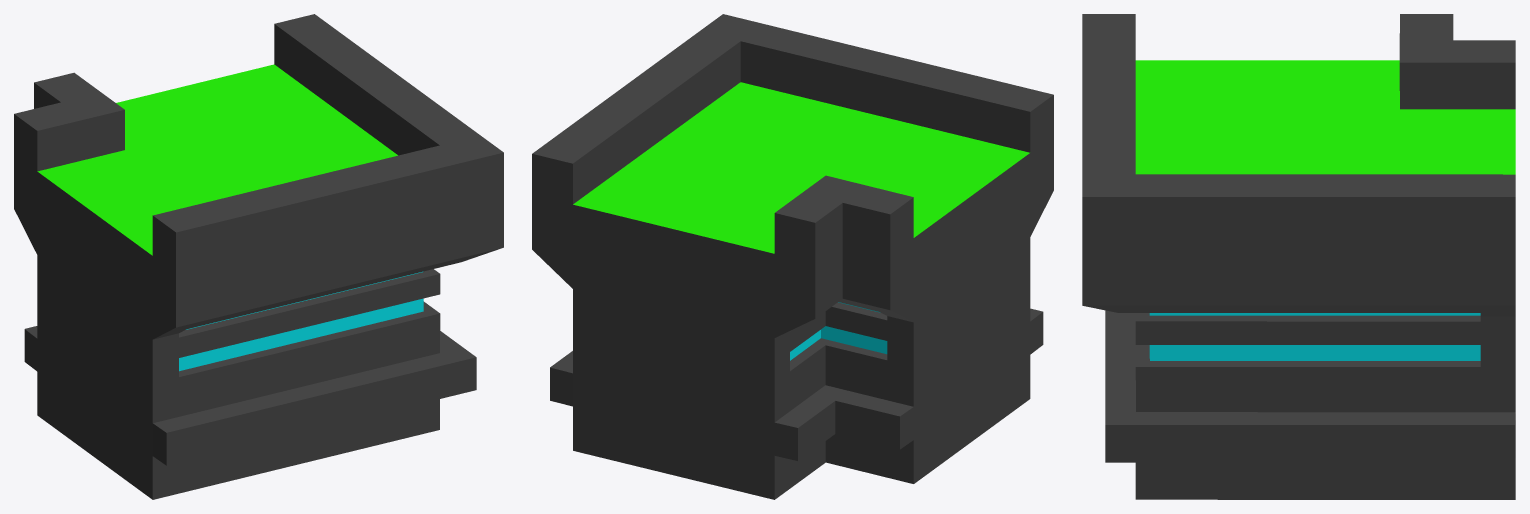
Rendered from Bridge L.fbx.
3 views of the same model, side by side, from view 1: azimuth 30°, elevation 25°; view 2: azimuth 150°, elevation 25°; view 3: azimuth 270°, elevation 25° (orthographic). The views are drawn at different scales.
Visible parts, largest first — view 1: Bridge L; view 2: Bridge L; view 3: Bridge L.
Part boxes in pixels (bbox=[...]): Bridge L: bbox=[14, 14, 503, 499]; Bridge L: bbox=[532, 14, 1053, 499]; Bridge L: bbox=[1082, 14, 1515, 499].
Size of the model in its own units: 175 by 145 by 175.
